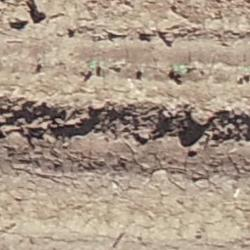cotton: (172, 66, 185, 74), (89, 62, 96, 69), (140, 68, 144, 72), (37, 57, 40, 62)
